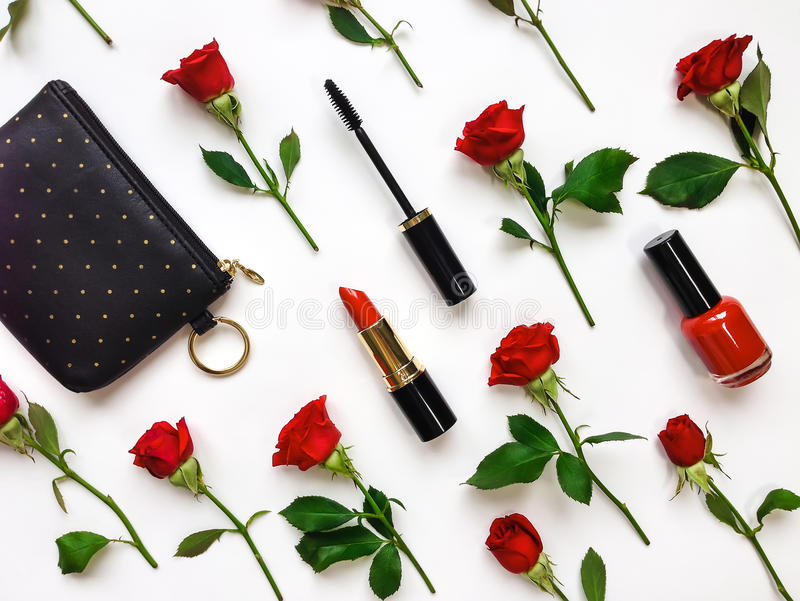RedRose: (665, 27, 753, 109), (154, 36, 243, 110), (446, 99, 532, 175), (267, 389, 344, 468), (127, 411, 203, 485), (483, 321, 560, 388), (476, 506, 548, 577), (652, 409, 721, 477), (0, 369, 22, 428)
